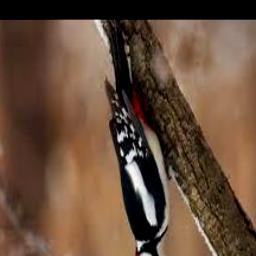Woodpecker: (105, 20, 181, 256)
